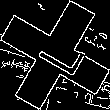L_NW: (25, 29, 85, 81)
